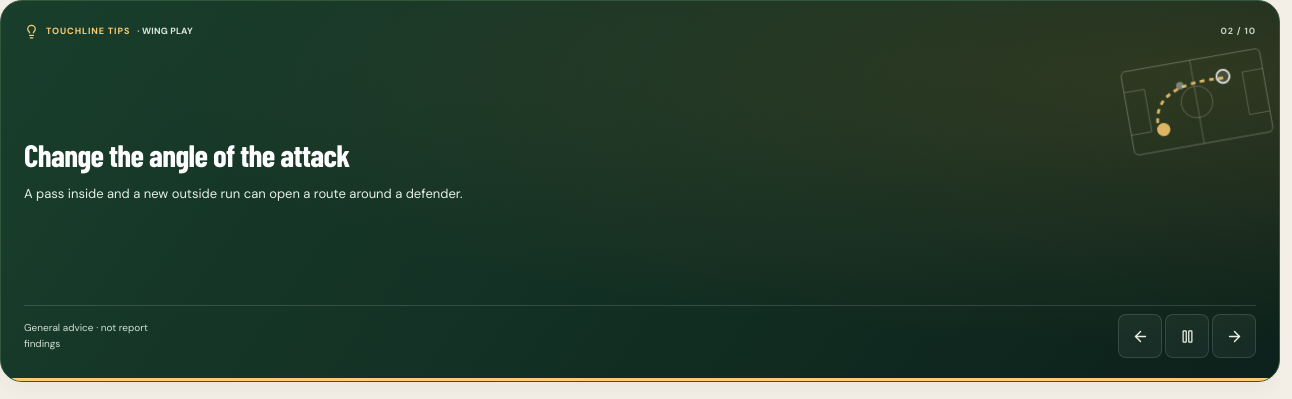
Test case: tips change every five seconds, pause, and stay separate from findings
Later steps or results of the test are not shown.
Expected: the heading does not show "Find the free teammate"
Step 1. Click the button named "Pause football tips" → (1187, 336), box [1165,314,1209,358]
Wait 15000 ms
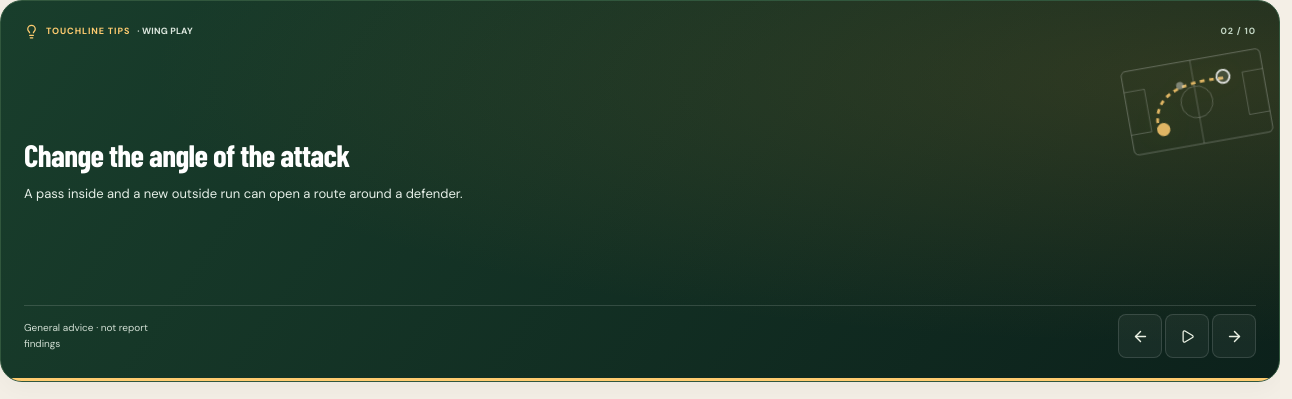
Expected: the heading reads "Change the angle of the attack", [24,136,350,173]
Step 2. Click the button named "Previous football tip" → (1140, 336), box [1118,314,1162,358]
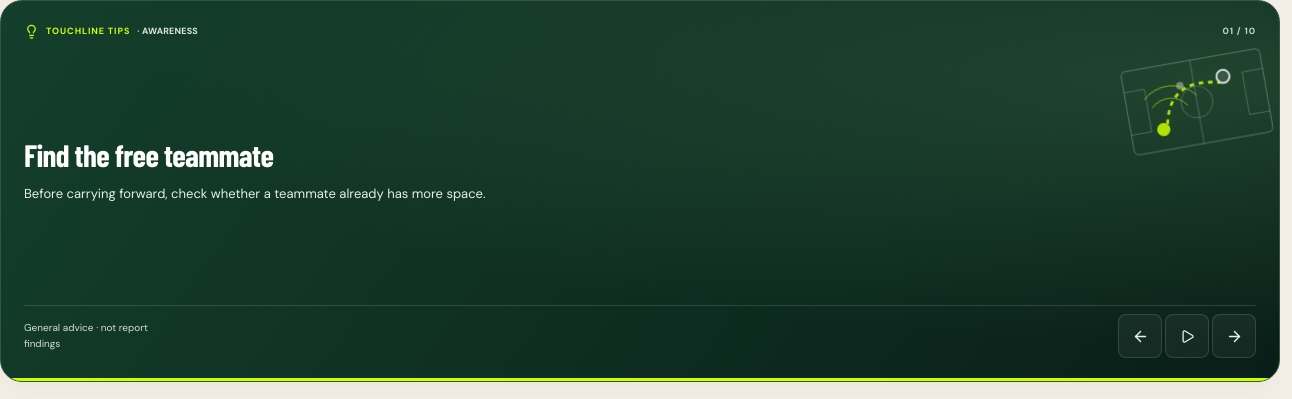
Expected: the element with test id "analysis-football-tips" shows "General advice · not report findings", [24,321,148,350]
Result: the heading reads "Find the free teammate" at [24,136,273,173]
